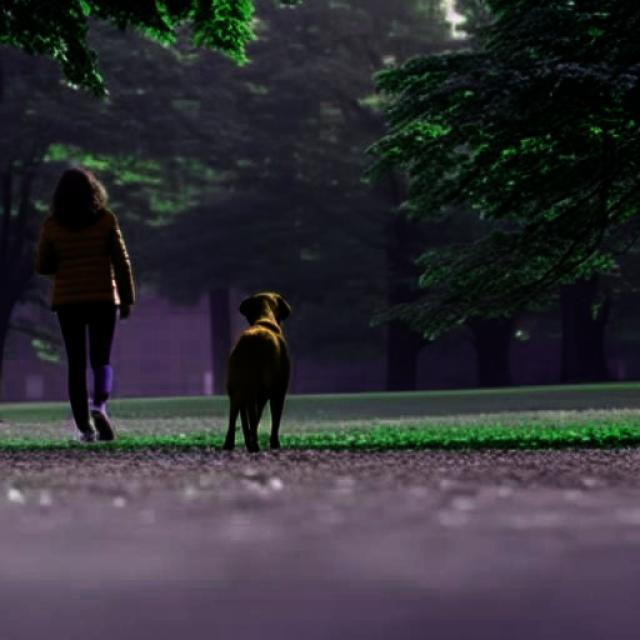Unleashed_Dog: (57, 290, 291, 452)
